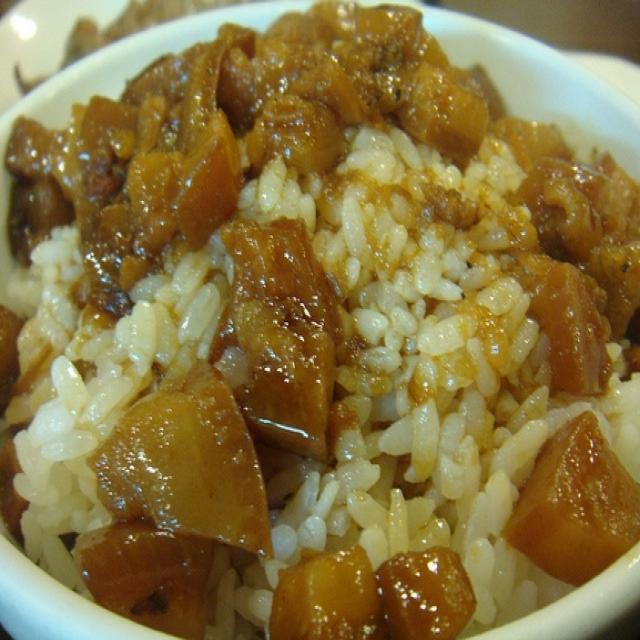猪肉菜式: (93, 63, 576, 564)
